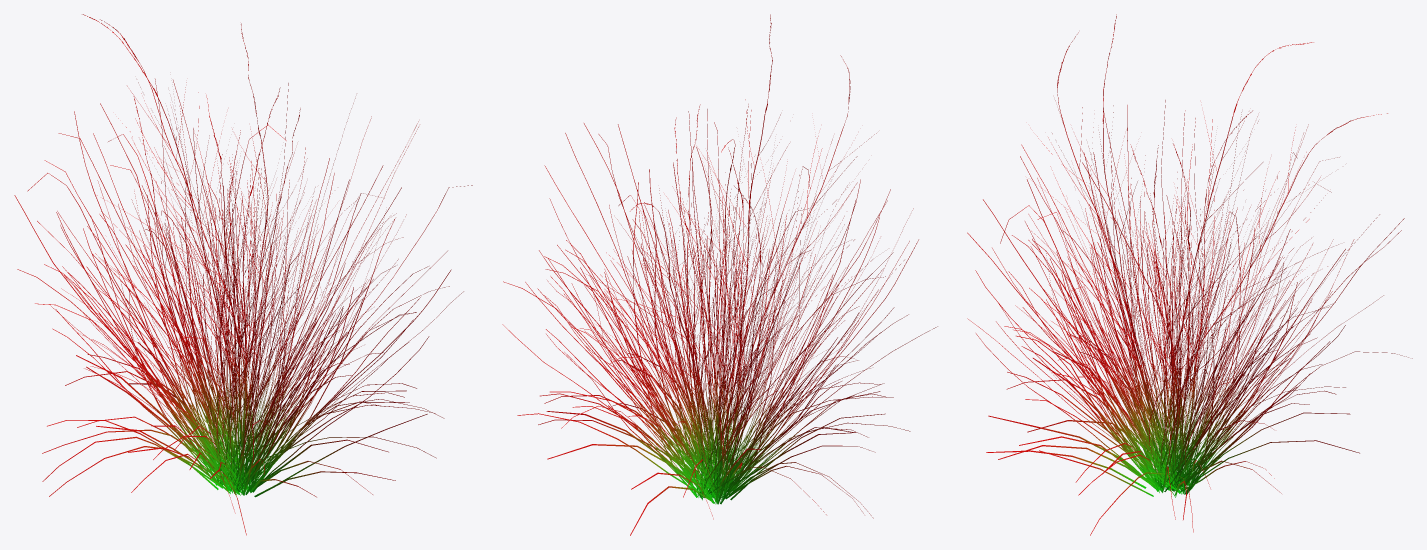
The model's file is Xeric Grass_LOD1_Var5_xjfgdhaqx.fbx.
3 renders of one model, left to right at view 1: azimuth 30°, elevation 25°; view 2: azimuth 150°, elevation 25°; view 3: azimuth 270°, elevation 25°, orthographic. The views are drawn at different scales.
Parts seen in each view (by area): view 1: _6b8z_Var5_LOD1; view 2: _6b8z_Var5_LOD1; view 3: _6b8z_Var5_LOD1.
Part boxes in pixels (x1,y1,x2,y2): _6b8z_Var5_LOD1: (14, 14, 472, 535); _6b8z_Var5_LOD1: (502, 14, 937, 535); _6b8z_Var5_LOD1: (967, 14, 1412, 535).
Size of the model in its own units: 240 by 293 by 256.
